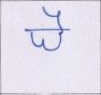ai_matra: (42, 6, 66, 28)
